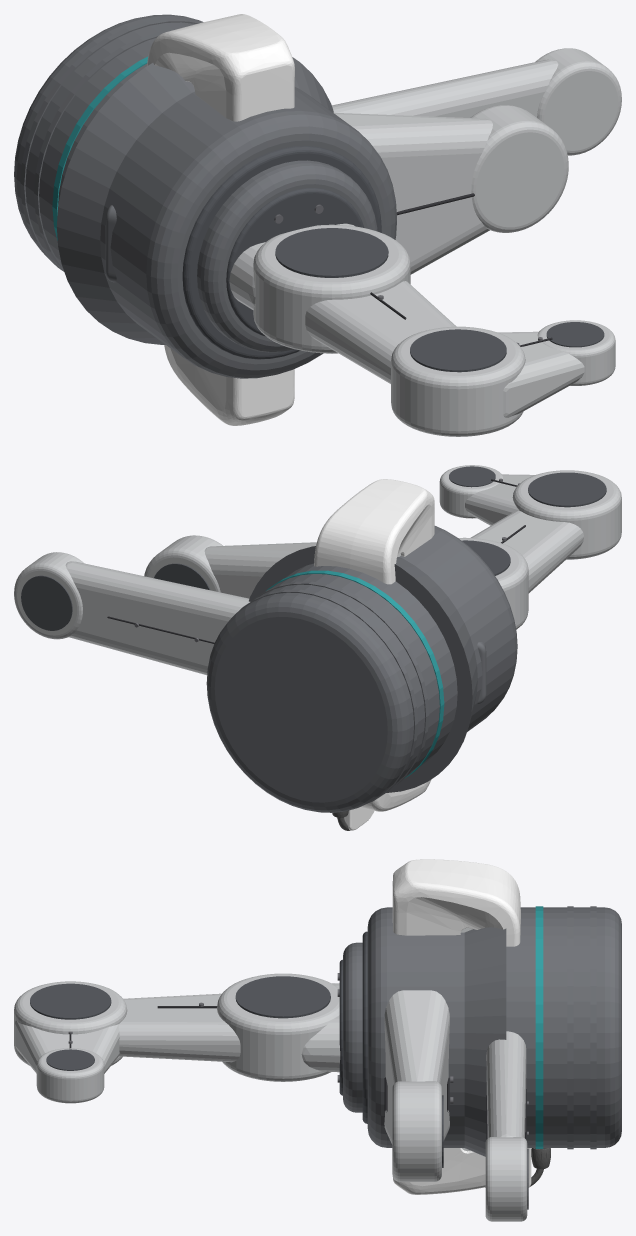
The model's file is arm.glb.
3 views of the same model, one above another, from view 1: azimuth 30°, elevation 25°; view 2: azimuth 150°, elevation 25°; view 3: azimuth 270°, elevation 25° (orthographic). The views are drawn at different scales.
Parts seen in each view (by area): view 1: b3, b2, b5, b9, b1, b4; view 2: b3, b4, b5, b9, b1, b2; view 3: b3, b5, b2, b9, b4, b1.
Part boxes in pixels (x1=…): b3: x1=14, y1=14, x2=568, y2=378; b2: x1=197, y1=160, x2=410, y2=353; b5: x1=305, y1=281, x2=615, y2=436; b9: x1=105, y1=14, x2=294, y2=425; b1: x1=56, y1=57, x2=333, y2=344; b4: x1=332, y1=48, x2=621, y2=155; b3: x1=144, y1=526, x2=517, y2=812; b4: x1=14, y1=552, x2=249, y2=675; b5: x1=439, y1=465, x2=621, y2=593; b9: x1=314, y1=479, x2=486, y2=830; b1: x1=249, y1=546, x2=477, y2=792; b2: x1=458, y1=537, x2=528, y2=629; b3: x1=362, y1=906, x2=621, y2=1181; b5: x1=14, y1=981, x2=240, y2=1103; b2: x1=217, y1=942, x2=362, y2=1112; b9: x1=392, y1=859, x2=550, y2=1194; b4: x1=485, y1=1031, x2=528, y2=1221; b1: x1=464, y1=927, x2=506, y2=1156.
Size of the model in its own units: 0.3129 by 0.2045 by 0.3528.
